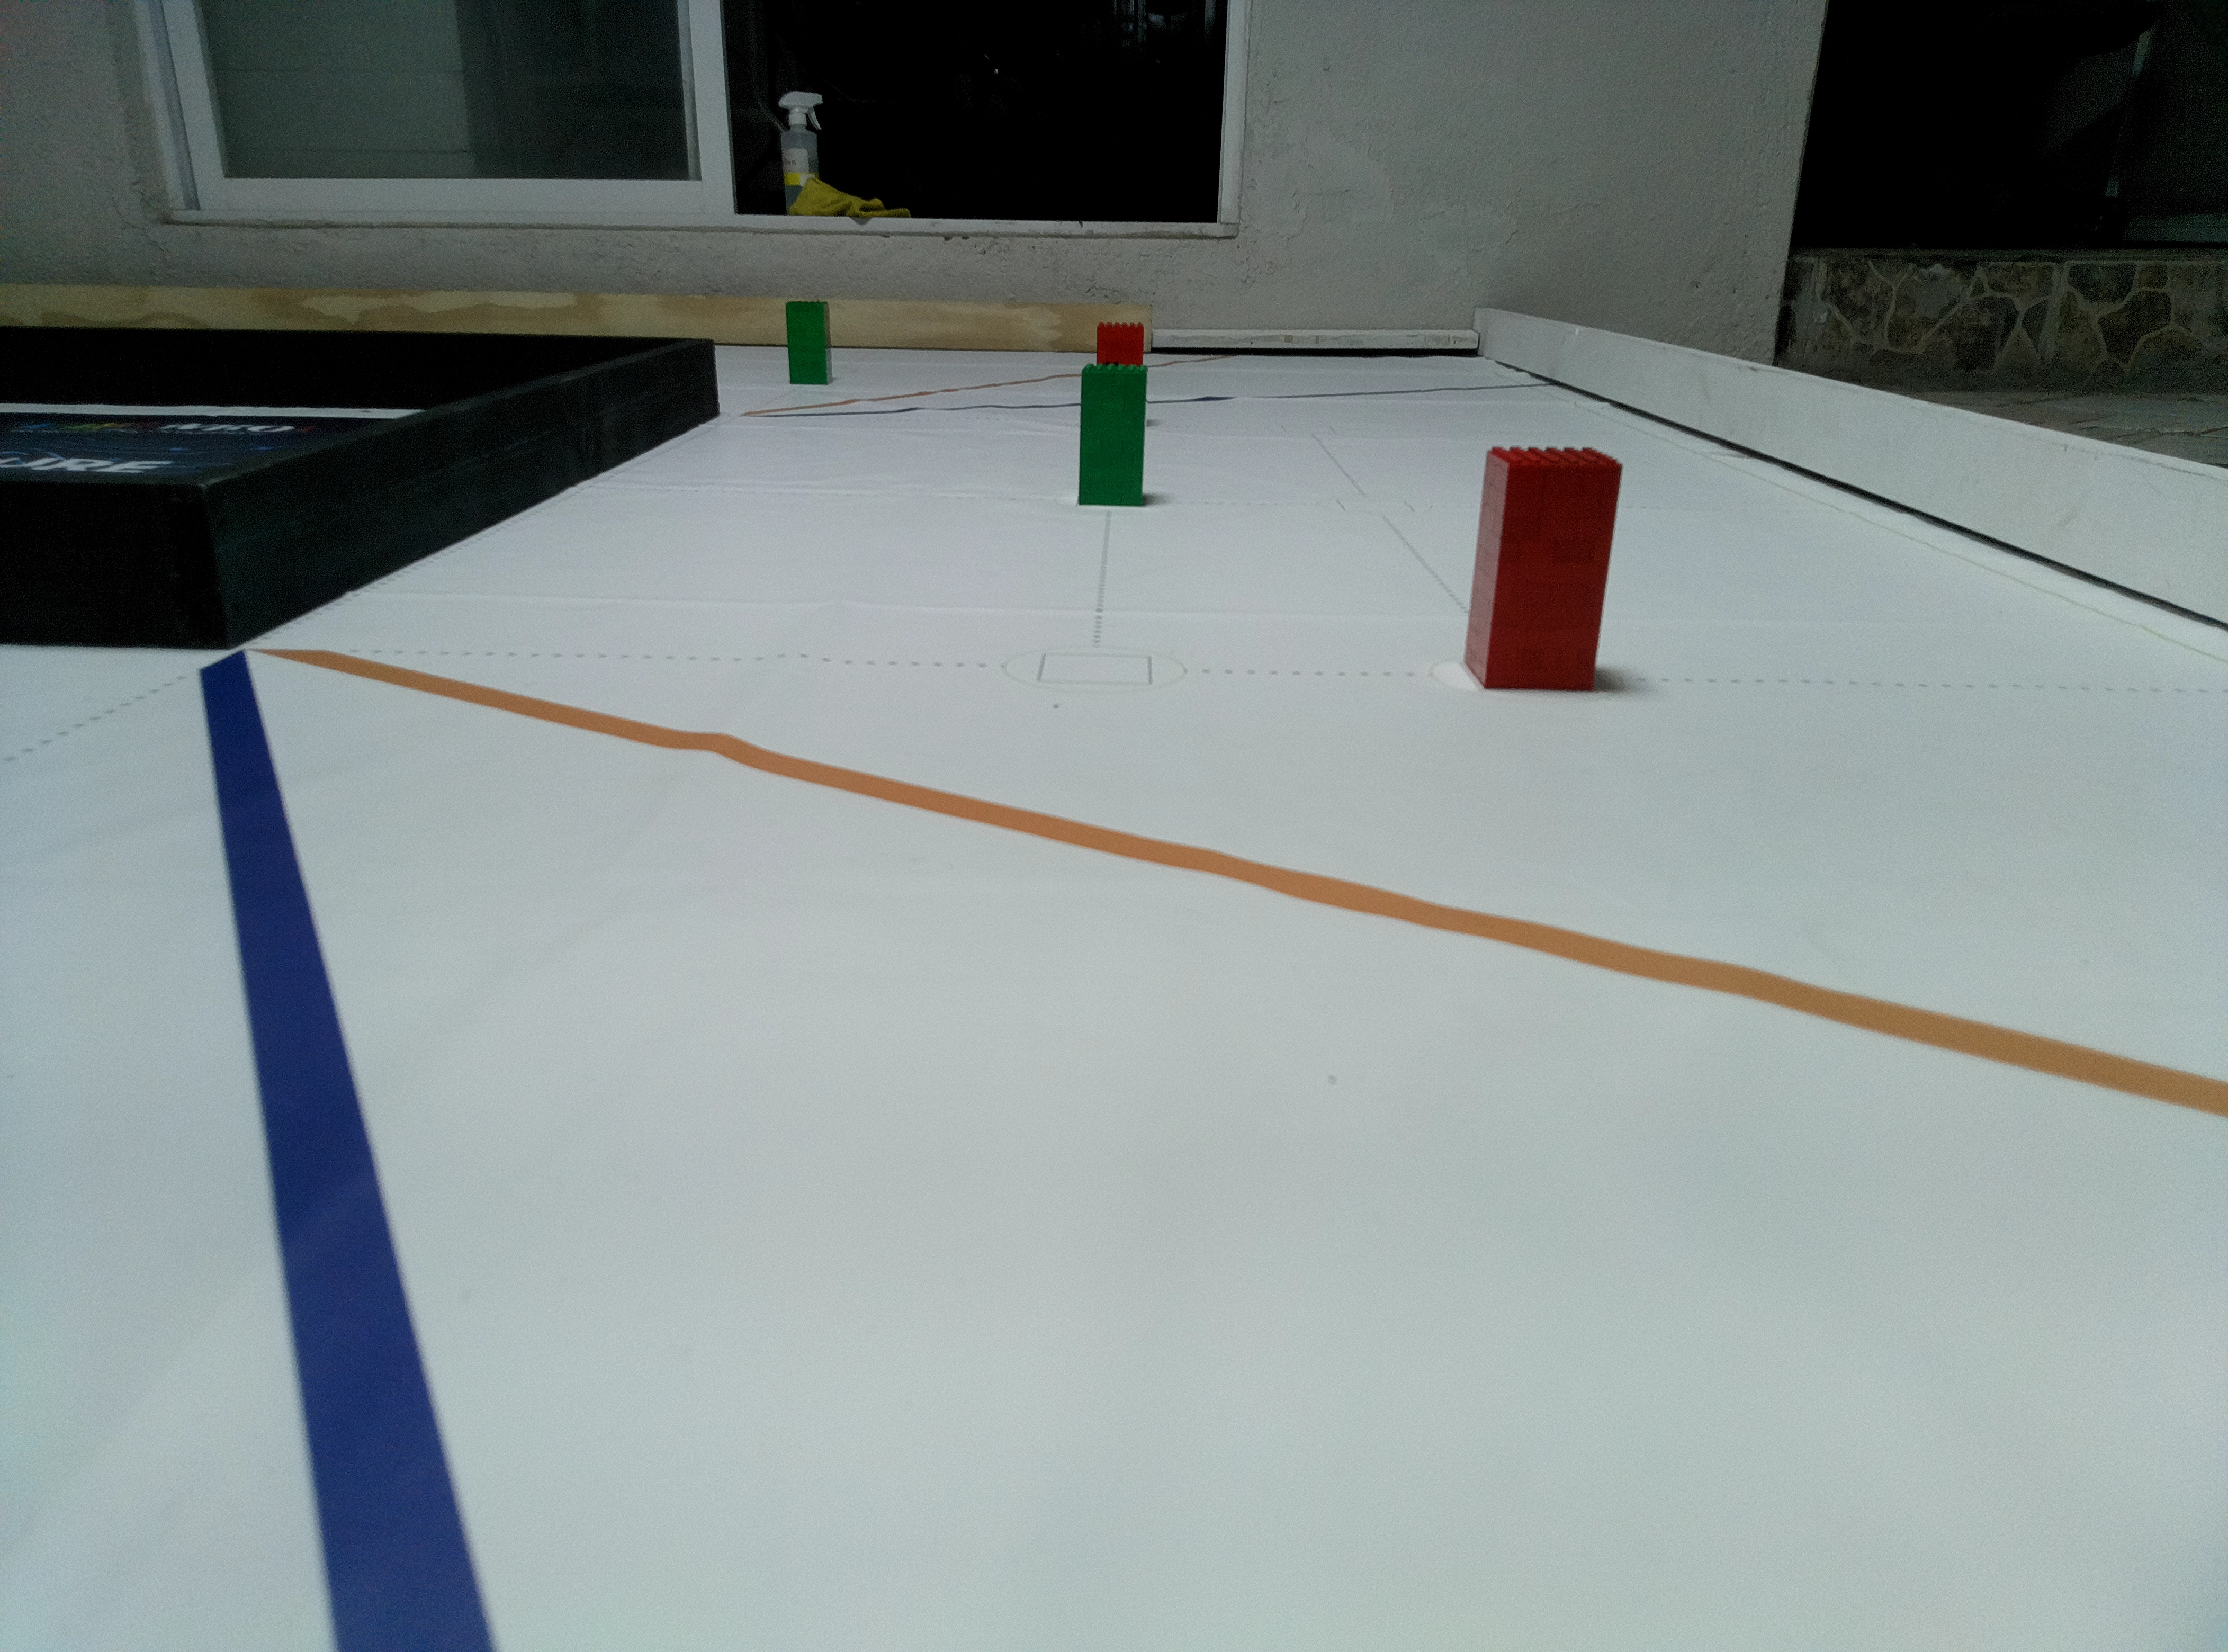greenbox: (1078, 361, 1149, 512), (784, 300, 833, 385)
redbox: (1461, 442, 1624, 694), (1095, 321, 1147, 368)
